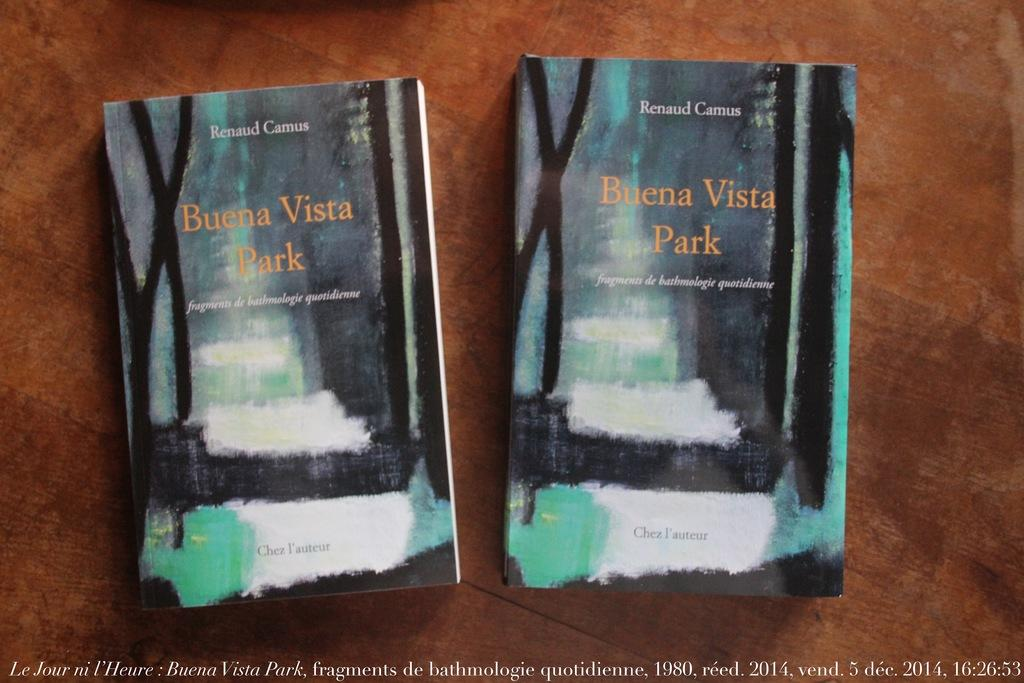book: (94, 78, 463, 618), (496, 44, 854, 600)
